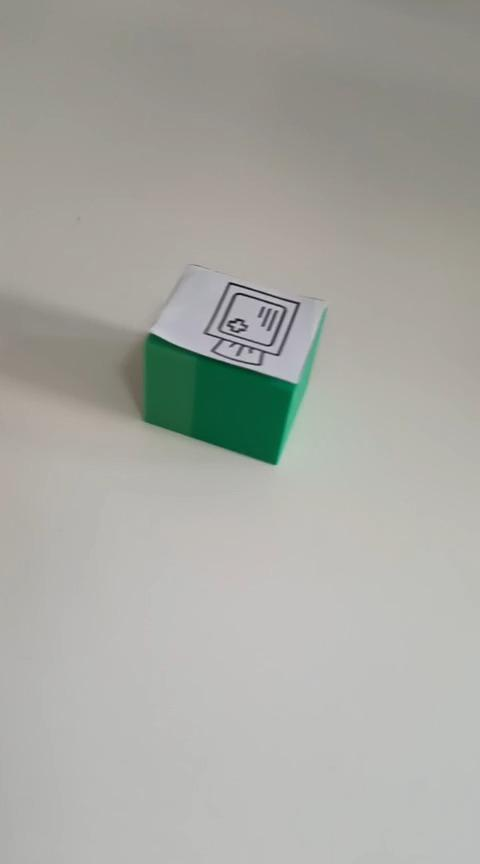Gauze: (140, 262, 328, 465)
